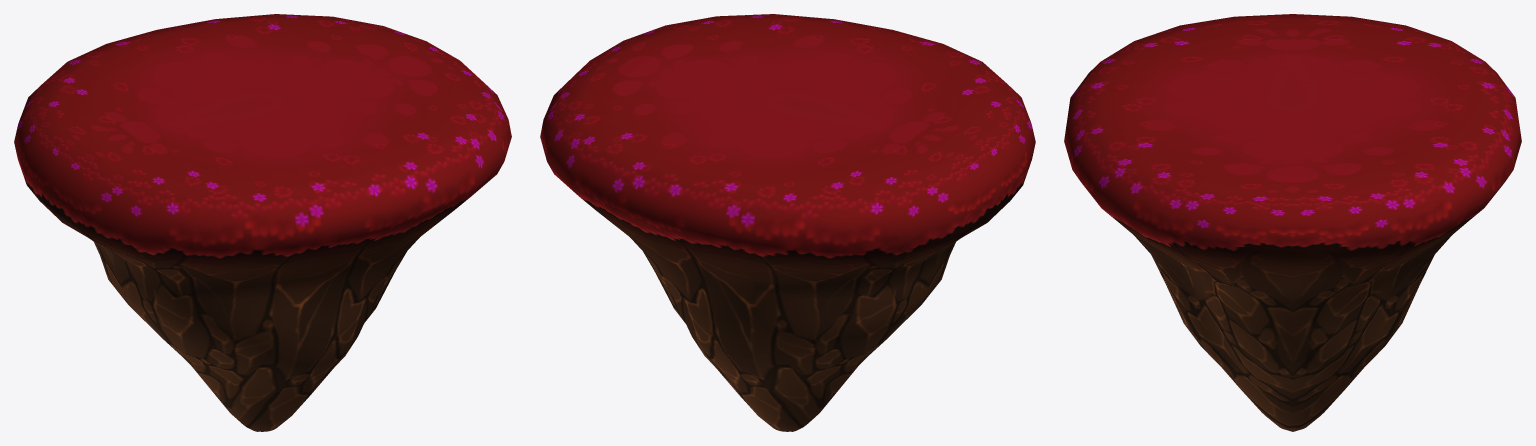
The model's file is Red_Island_LOD.FBX.
3 renders of one model, left to right at view 1: azimuth 30°, elevation 25°; view 2: azimuth 150°, elevation 25°; view 3: azimuth 270°, elevation 25°, orthographic.
Parts seen in each view (by area): view 1: Red_Island_LOD; view 2: Red_Island_LOD; view 3: Red_Island_LOD.
Part boxes in pixels (x1,y1,x2,y2): Red_Island_LOD: (14,14,511,431); Red_Island_LOD: (540,14,1035,431); Red_Island_LOD: (1064,14,1521,431).
Size of the model in its own units: 1747 by 1290 by 1639.
